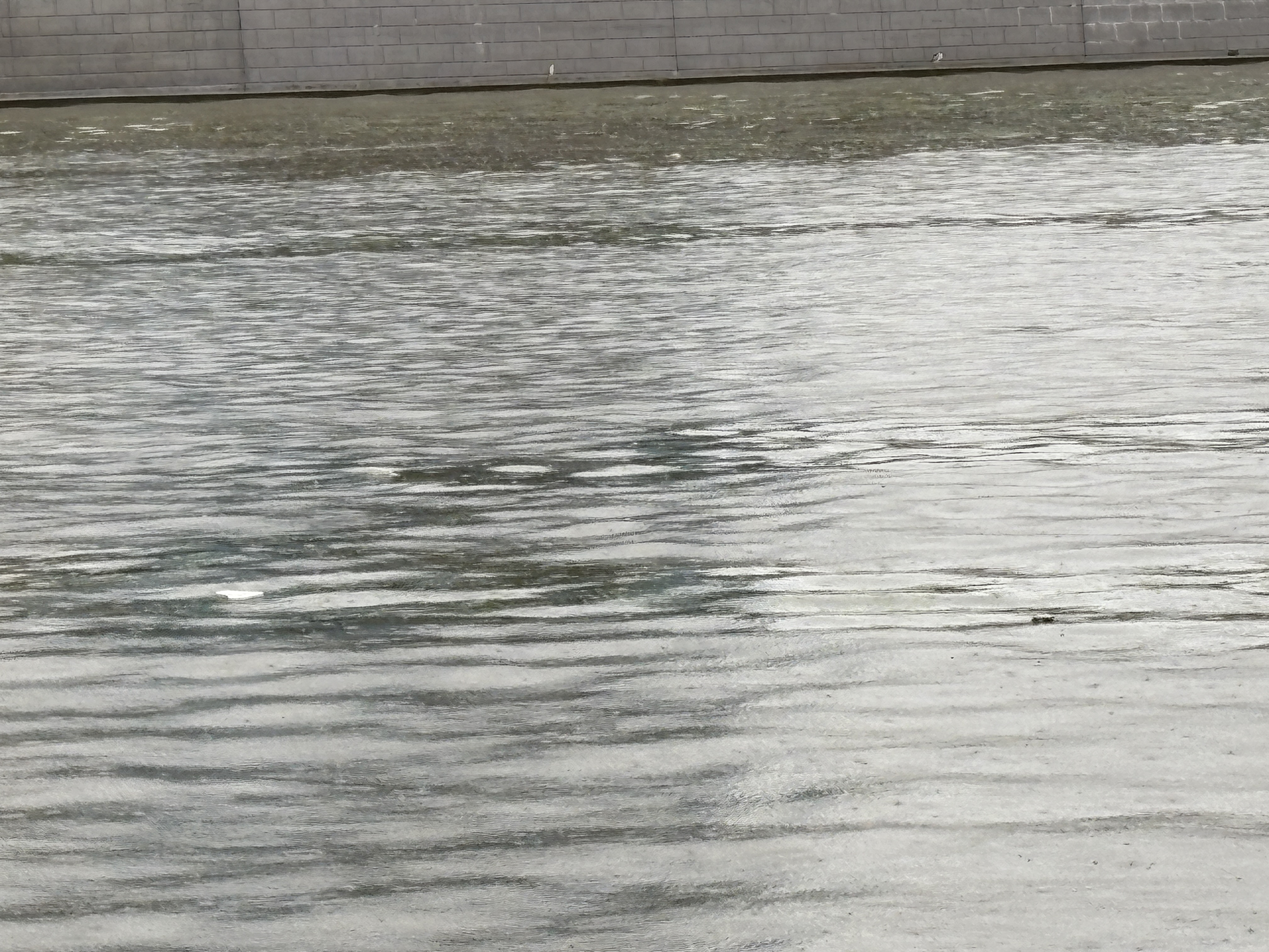Plastic wastes: (211, 583, 269, 605), (1030, 611, 1056, 626)
